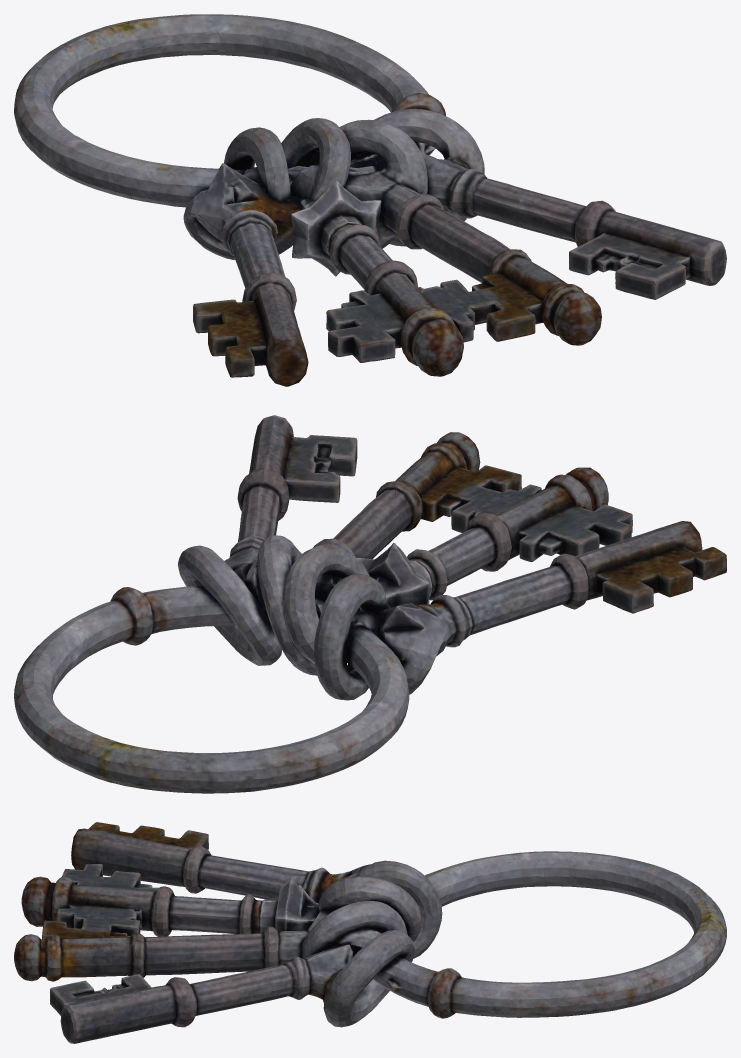
Rendered from dress-keys.glb.
The picture shows the model from 3 angles, top to bottom: view 1: azimuth 30°, elevation 25°; view 2: azimuth 150°, elevation 25°; view 3: azimuth 270°, elevation 25°; orthographic projection. The views are drawn at different scales.
Bounding box in the file's own units: 0.6719 × 0.1758 × 0.9997.
Materials: 1 (1 with a texture image).
